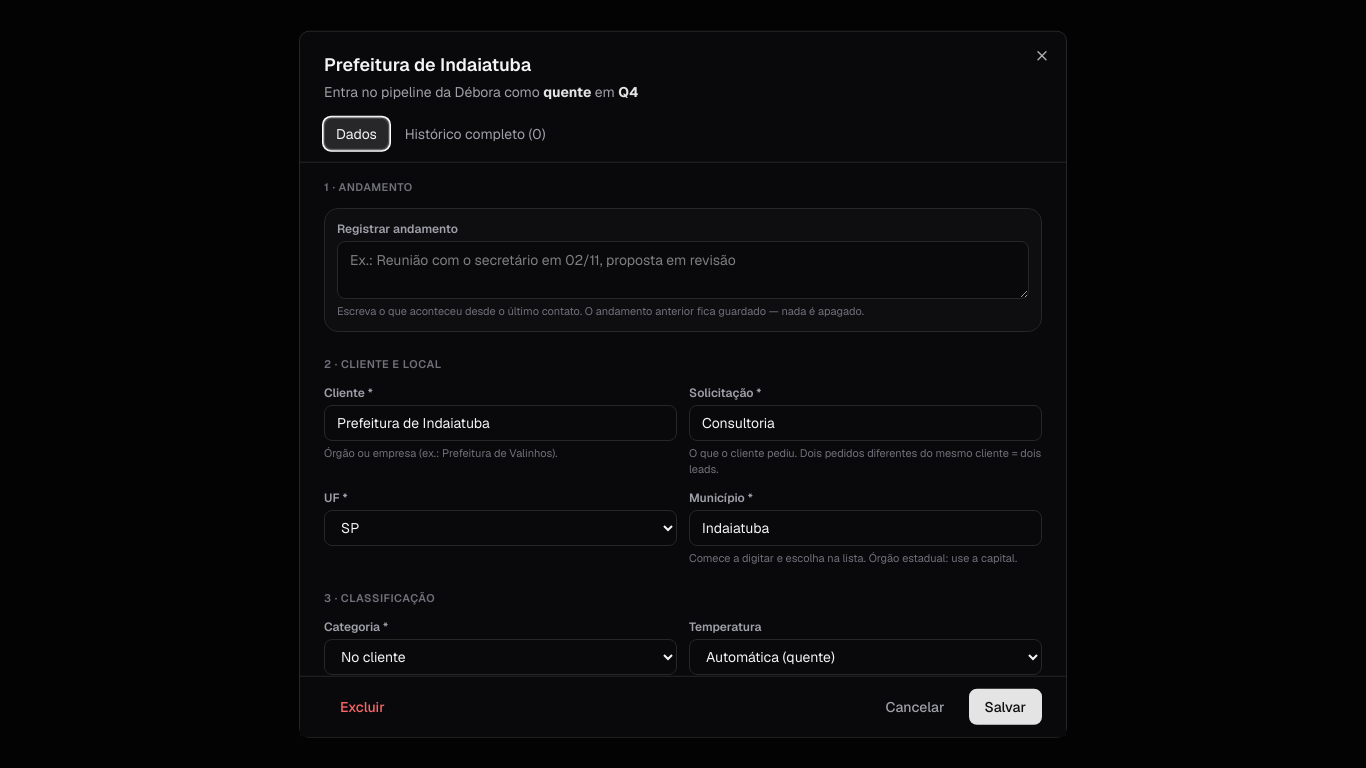
Test: LeadPainel › salvarLead que rejeita reabilita Salvar e mostra erro
The width and height of the screenshot is (1366, 768).
Click the button "Salvar". click: {"x": 1005, "y": 706}
box: 968,688 -> 1042,724
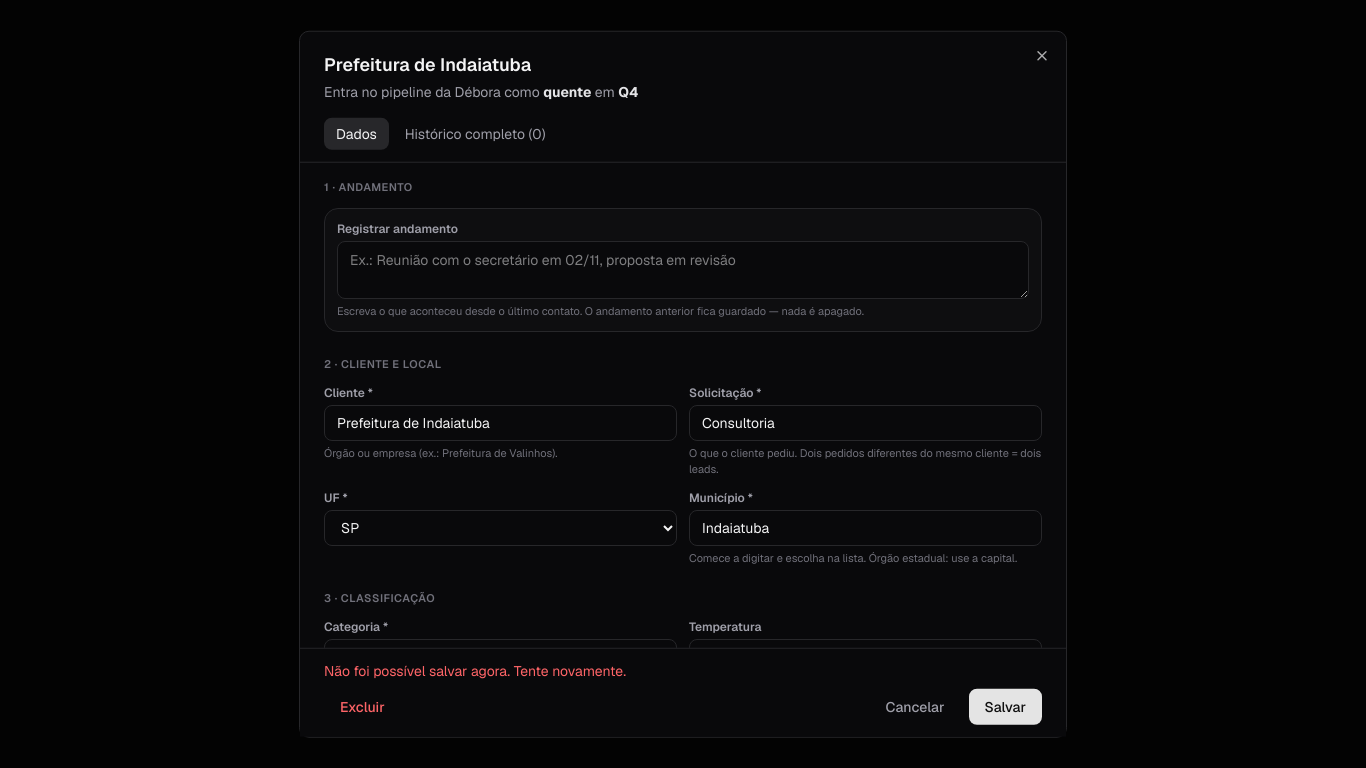
Check: the text "Não foi possível salvar agora. Tente novamente." is shown, box 324,661 -> 626,679
